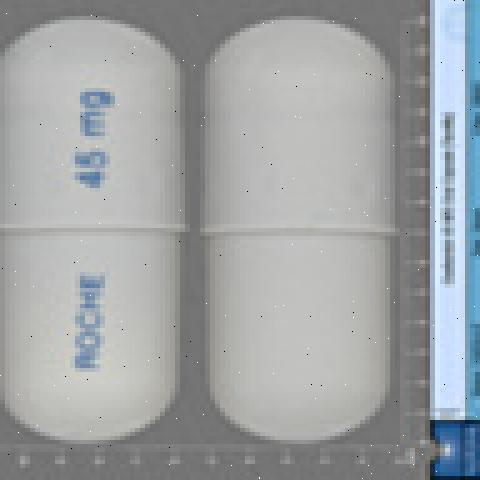Pill: (193, 6, 421, 464), (0, 10, 181, 460)
